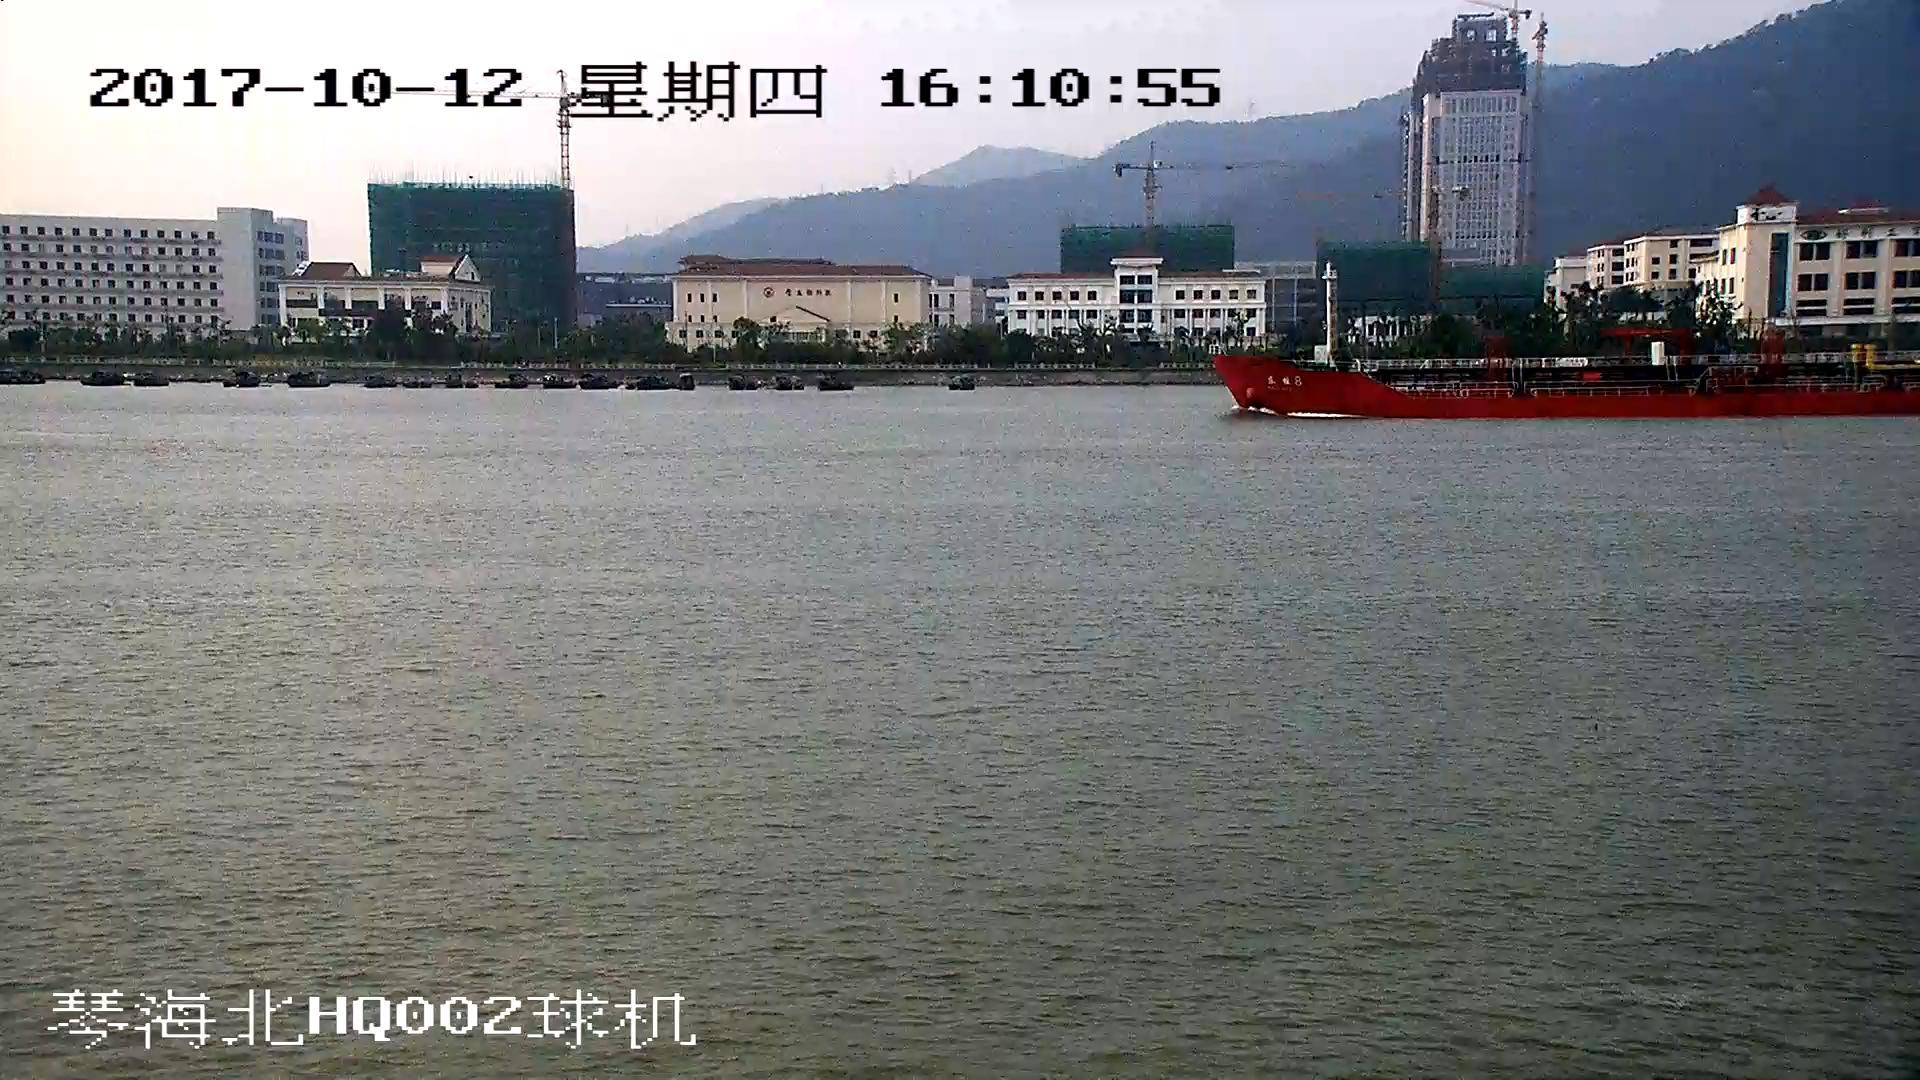Ship: (1221, 273, 1920, 425)
